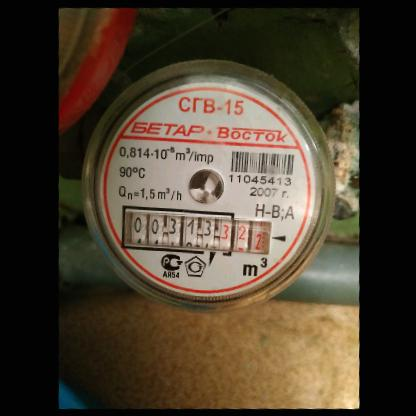digital_screen: (116, 203, 219, 254)
